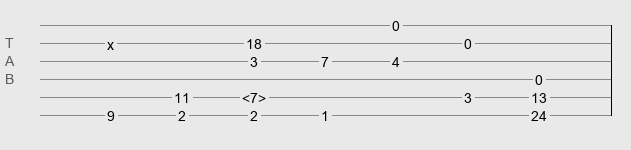0: (392, 18, 400, 28), (464, 36, 472, 46), (535, 72, 543, 82)
1: (321, 108, 329, 118)
11: (174, 90, 190, 100)
13: (531, 90, 547, 100)
18: (246, 36, 262, 46)
2: (178, 108, 186, 118), (250, 108, 258, 118)
24: (531, 108, 547, 118)
3: (250, 54, 258, 64), (464, 90, 472, 100)
4: (392, 54, 400, 64)
7: (321, 54, 329, 64)
9: (107, 108, 115, 118)
harmonic: (242, 90, 266, 100)
x: (107, 37, 114, 45)
